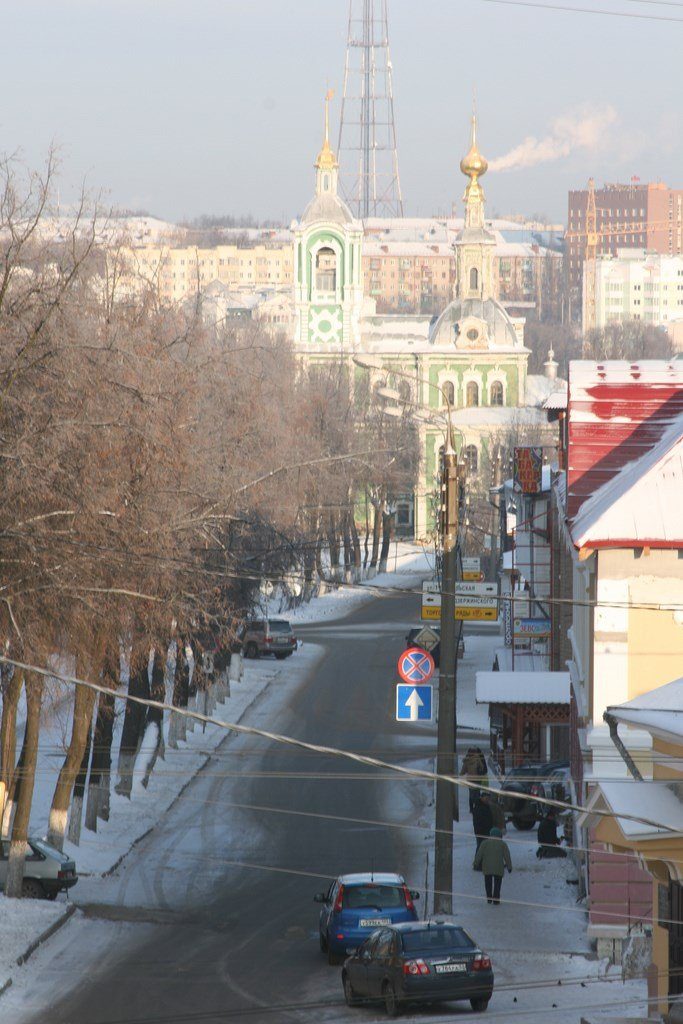sign: (395, 682, 435, 722), (396, 646, 435, 684), (412, 624, 440, 654)
